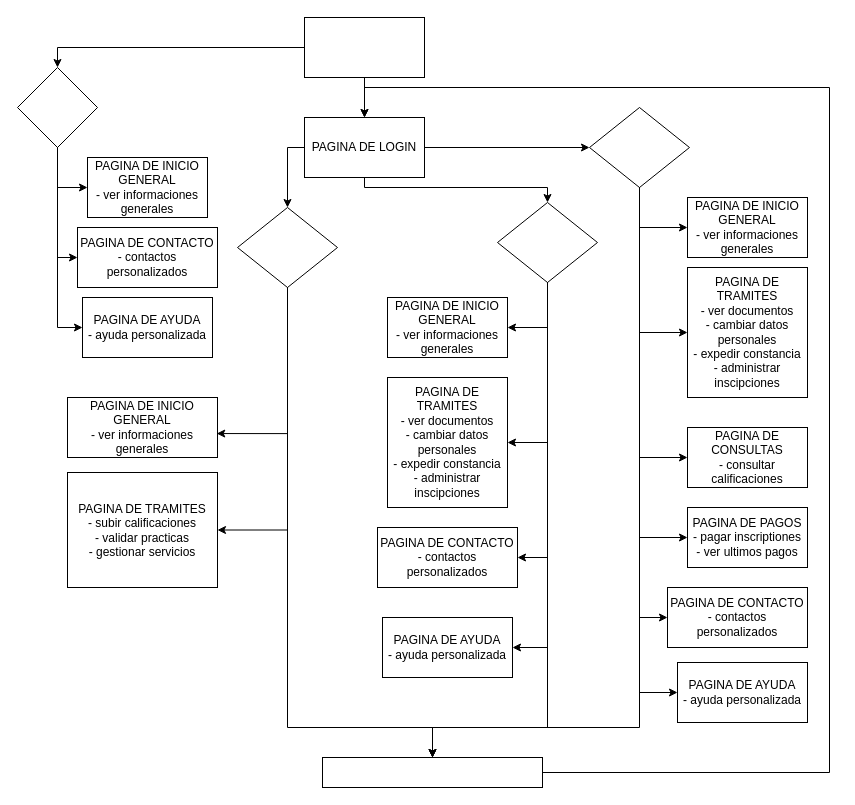
Image size: 855x805. Some labels were removed from this diagram. The box of each missing label's shape, as (x1, y1, x2, y2) in pixels:
ACCESSO PUBLICO: (16, 66, 98, 148)
EGRESADO: (496, 202, 598, 282)
ESTUDIANTE: (588, 106, 690, 188)
FINALIZAR SESSION: (322, 756, 542, 788)
PAGINA PRINCIPAL: (304, 16, 424, 78)
PERSONAL: (236, 206, 338, 288)
